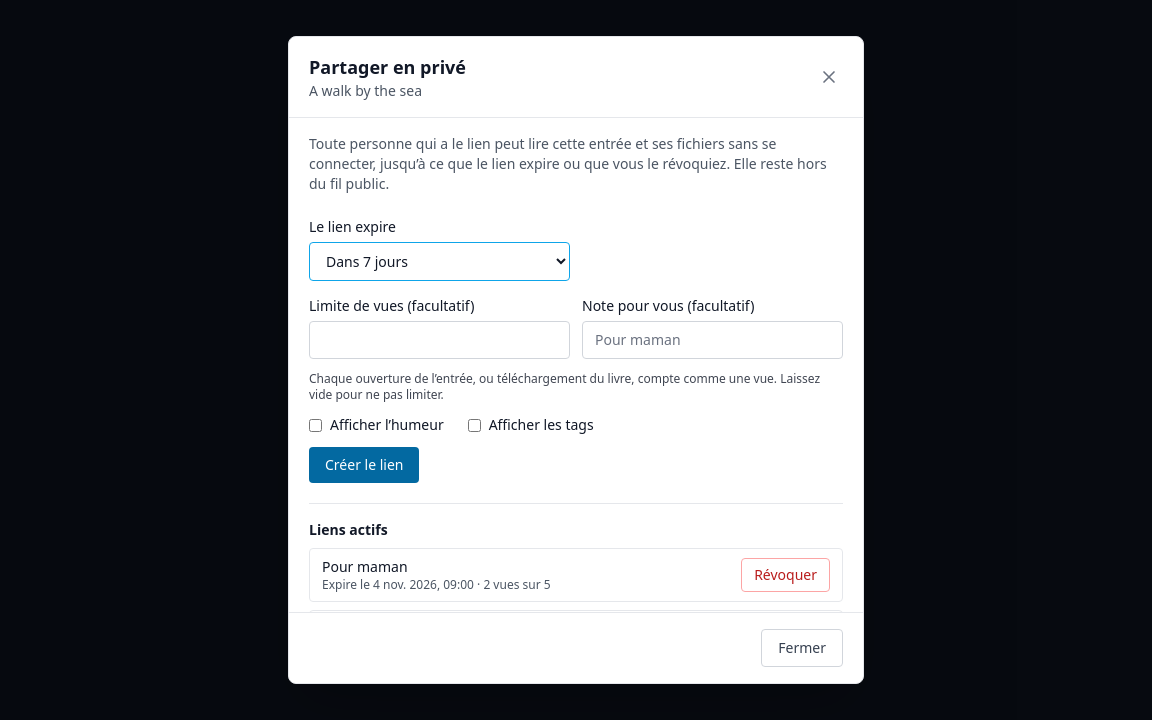
ShareLinkDialog › lists the active links with their views and revokes one, in French
Expected: the text "Pour maman" is shown, [322,557,408,576]
Expected: the text "Expire le 4 nov. 2026, 09:00 · 2 vues sur 5" is shown, [322,577,551,593]
Click the button with aria-label "Révoquer Pour maman".
click(786, 575)  # box [741,558,830,592]
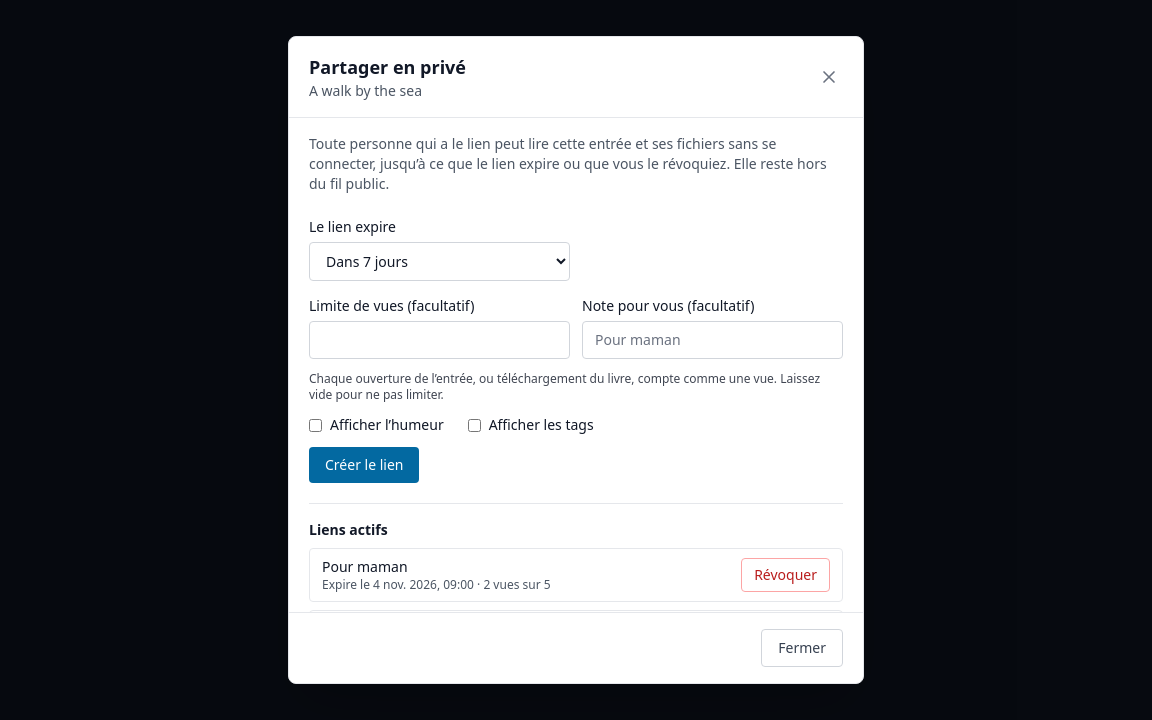
Click the button with aria-label "Révoquer Pour maman".
click(786, 575)  # box [741,558,830,592]
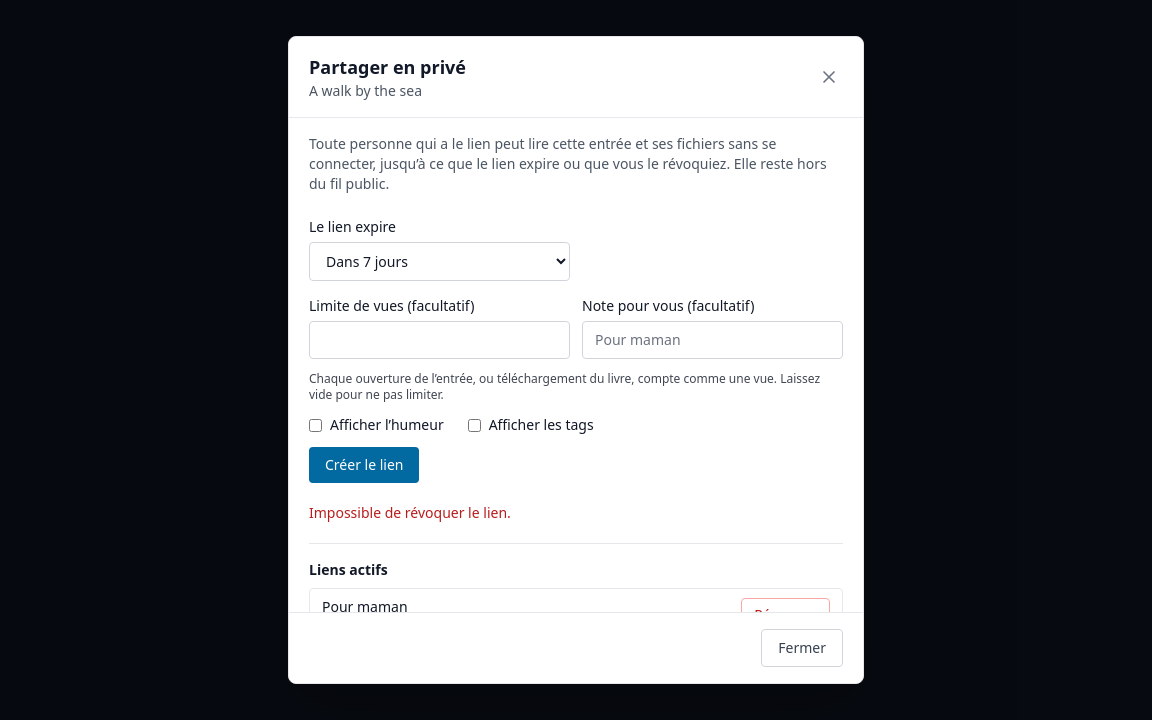
Result: the message reads "Impossible de révoquer le lien." at [309,503,511,522]
